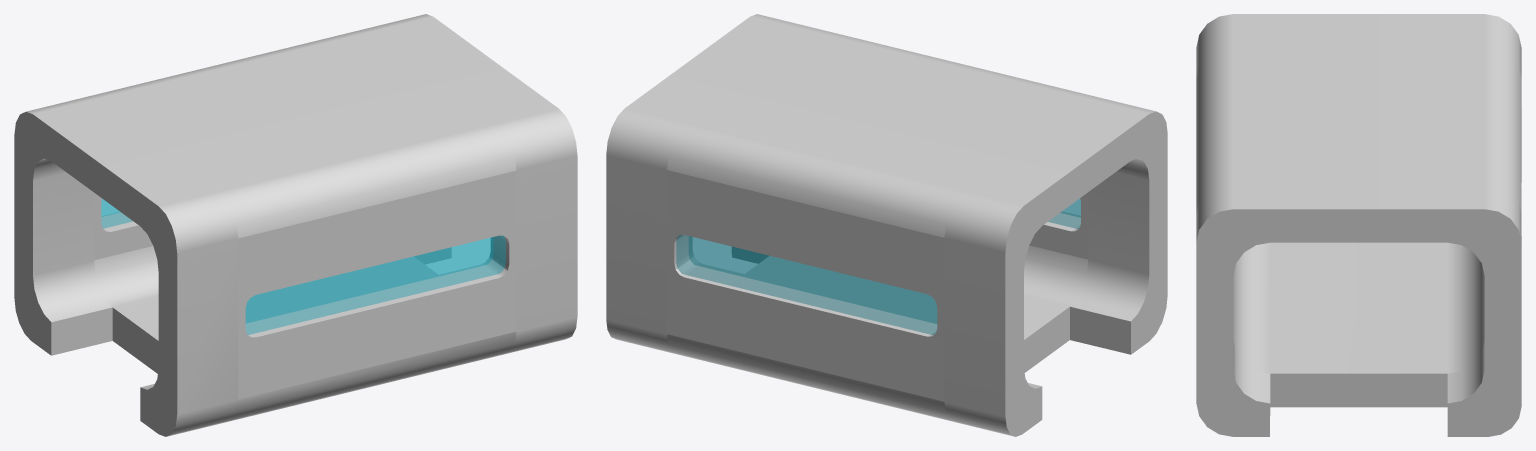
Rendered from Hallway_Transition_Window.fbx.
3 views of the same model, side by side, from view 1: azimuth 30°, elevation 25°; view 2: azimuth 150°, elevation 25°; view 3: azimuth 270°, elevation 25° (orthographic).
Visible parts, largest first — view 1: Hallway_Transition_Window, Hallway_Window1; view 2: Hallway_Transition_Window, Hallway_Window2, Hallway_Window1; view 3: Hallway_Transition_Window.
Part boxes in pixels (x1,y1,x2,y2): Hallway_Transition_Window: (14, 14, 577, 436); Hallway_Window1: (245, 236, 505, 334); Hallway_Transition_Window: (606, 14, 1167, 436); Hallway_Window2: (676, 235, 937, 334); Hallway_Window1: (1048, 198, 1080, 228); Hallway_Transition_Window: (1196, 14, 1521, 436).
Size of the model in its own units: 12.86 by 9.05 by 7.
